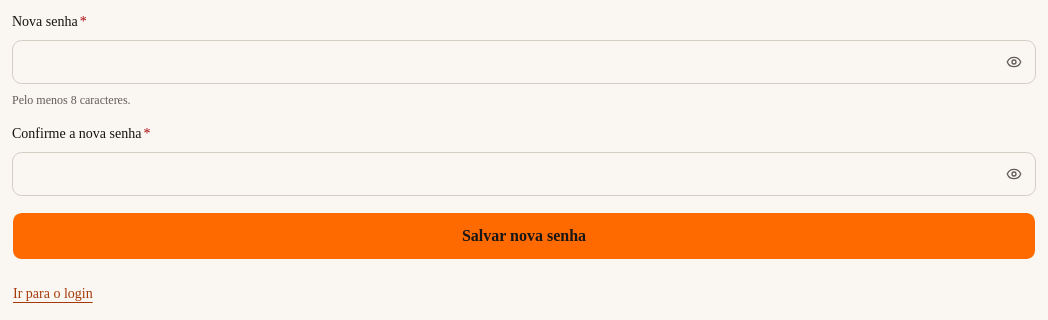
Scenario: ResetPasswordForm › resets the password with the token and confirms success
In the password field labelled "Nova senha*": x=524, y=62 [12, 40, 1036, 84], type "senha-forte-123"
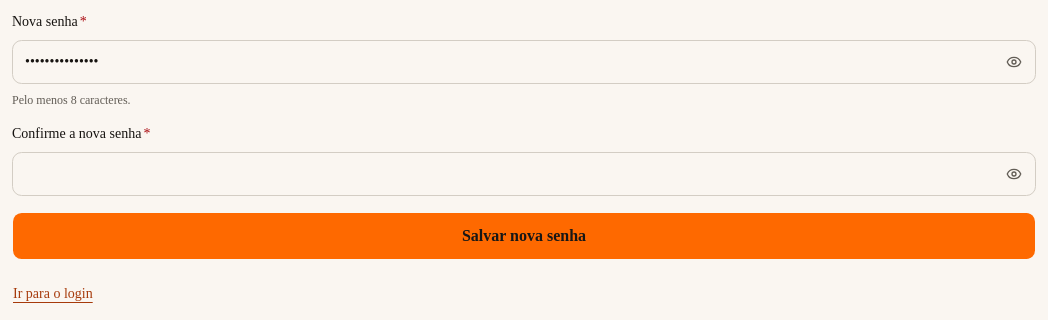
In the password field labelled "Confirme a nova senha*": x=524, y=174 [12, 152, 1036, 196], type "senha-forte-123"
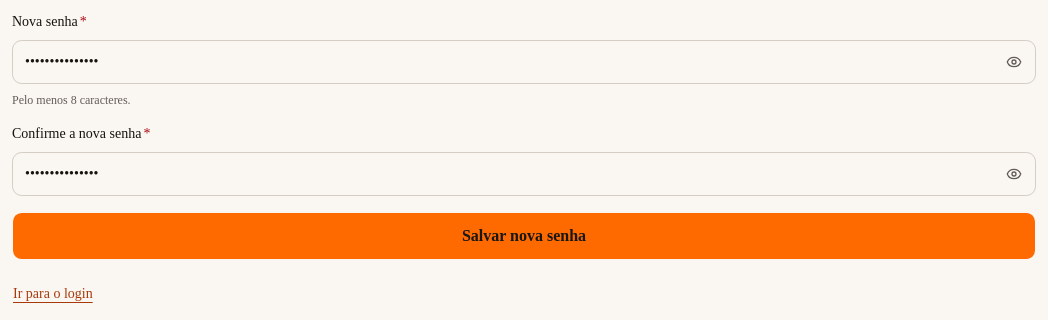
Click the button "Salvar nova senha": x=524, y=236 [12, 212, 1036, 260]
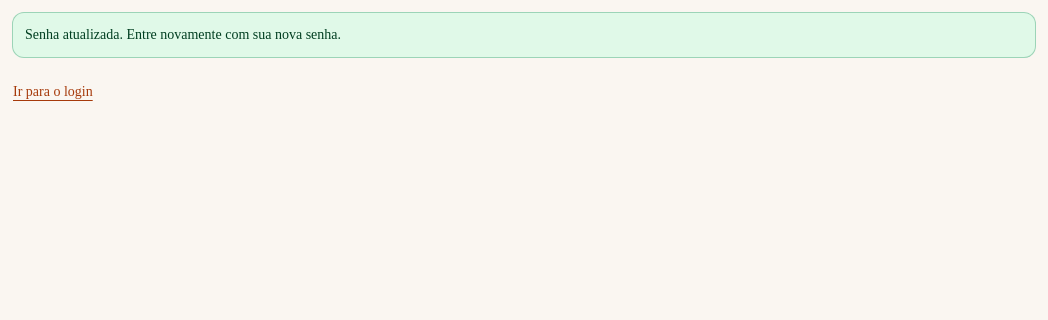
Expected: the text "Senha atualizada. Entre novamente com sua nova senha." is shown, [12, 12, 1036, 58]
